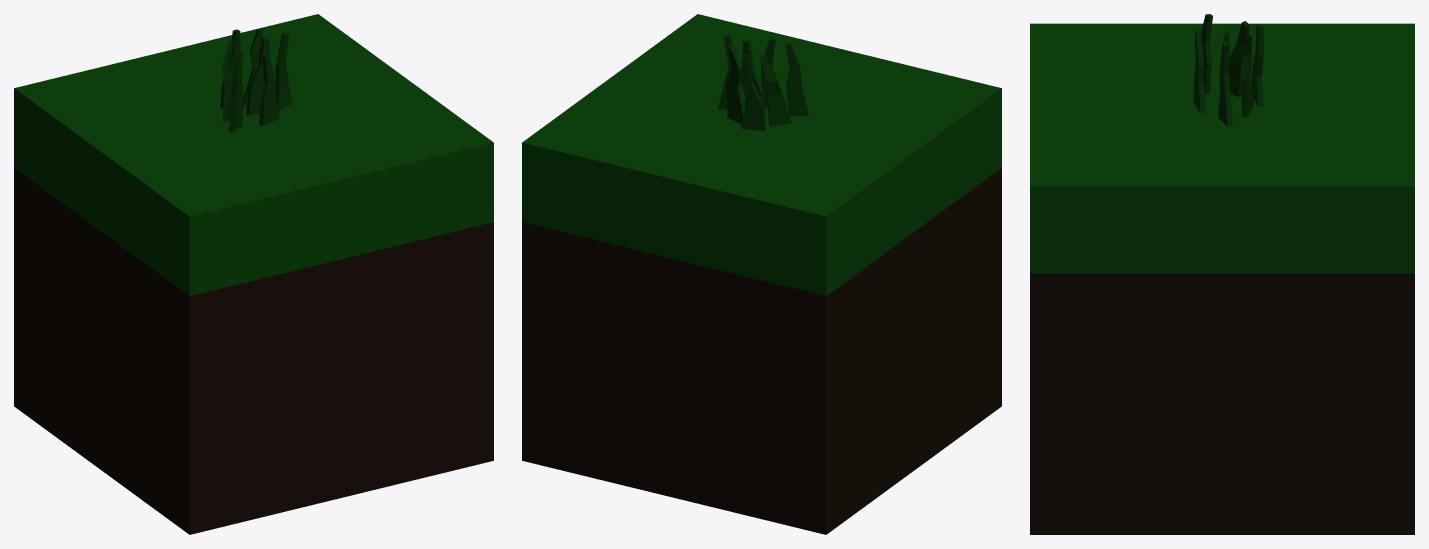
The model's file is grass_tile.obj.
3 renders of one model, left to right at view 1: azimuth 30°, elevation 25°; view 2: azimuth 150°, elevation 25°; view 3: azimuth 270°, elevation 25°, orthographic. The views are drawn at different scales.
Parts seen in each view (by area): view 1: tilebottom_Cube.074, tile_Cube.073, grass_Cube.035; view 2: tilebottom_Cube.074, tile_Cube.073, grass_Cube.035; view 3: tilebottom_Cube.074, tile_Cube.073, grass_Cube.035.
Part boxes in pixels (box(x1,y1,x2,y2)): tilebottom_Cube.074: box(14, 168, 493, 534); tile_Cube.073: box(14, 14, 493, 295); grass_Cube.035: box(220, 28, 292, 132); tilebottom_Cube.074: box(522, 168, 1001, 534); tile_Cube.073: box(522, 14, 1001, 295); grass_Cube.035: box(718, 35, 808, 130); tilebottom_Cube.074: box(1030, 273, 1414, 534); tile_Cube.073: box(1030, 23, 1414, 273); grass_Cube.035: box(1193, 14, 1263, 126).
Bounding box in the file's own units: 2 × 2.46 × 2.
